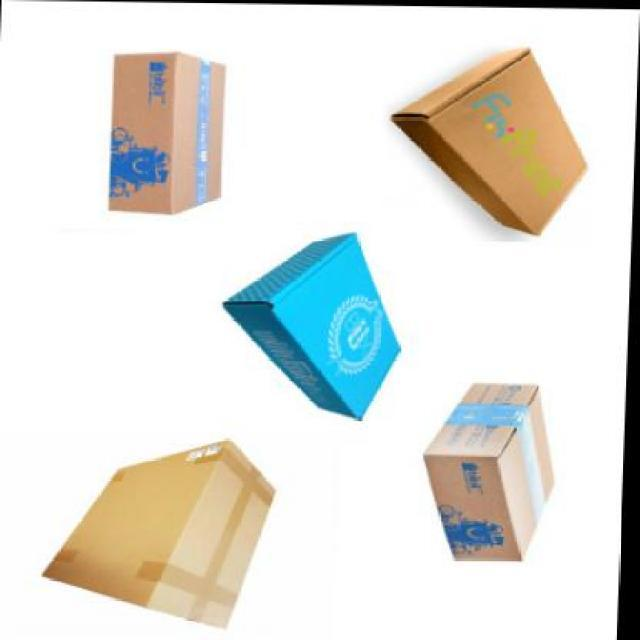box: (47, 437, 280, 626), (386, 45, 592, 234), (222, 229, 408, 419), (424, 382, 562, 558), (111, 49, 228, 214)
